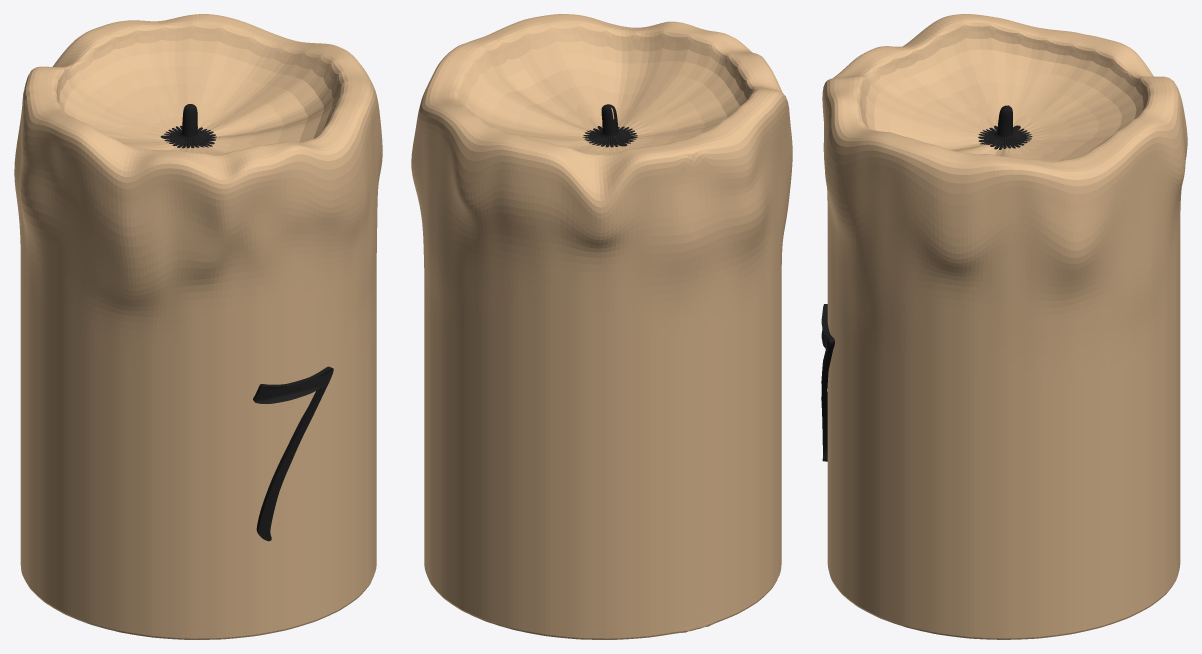
Rendered from Candle-7.fbx.
3 renders of one model, left to right at view 1: azimuth 30°, elevation 25°; view 2: azimuth 150°, elevation 25°; view 3: azimuth 270°, elevation 25°, orthographic.
Visible parts, largest first — view 1: Candle, Text; view 2: Candle; view 3: Candle, Text.
Boxes of the visible parts, <box> form: Candle: <box>14,14,382,639</box>; Text: <box>253,366,333,541</box>; Candle: <box>411,14,792,639</box>; Candle: <box>822,14,1187,639</box>; Text: <box>821,304,834,461</box>.
Bounding box in the file's own units: 41.75 × 60.84 × 41.42.
